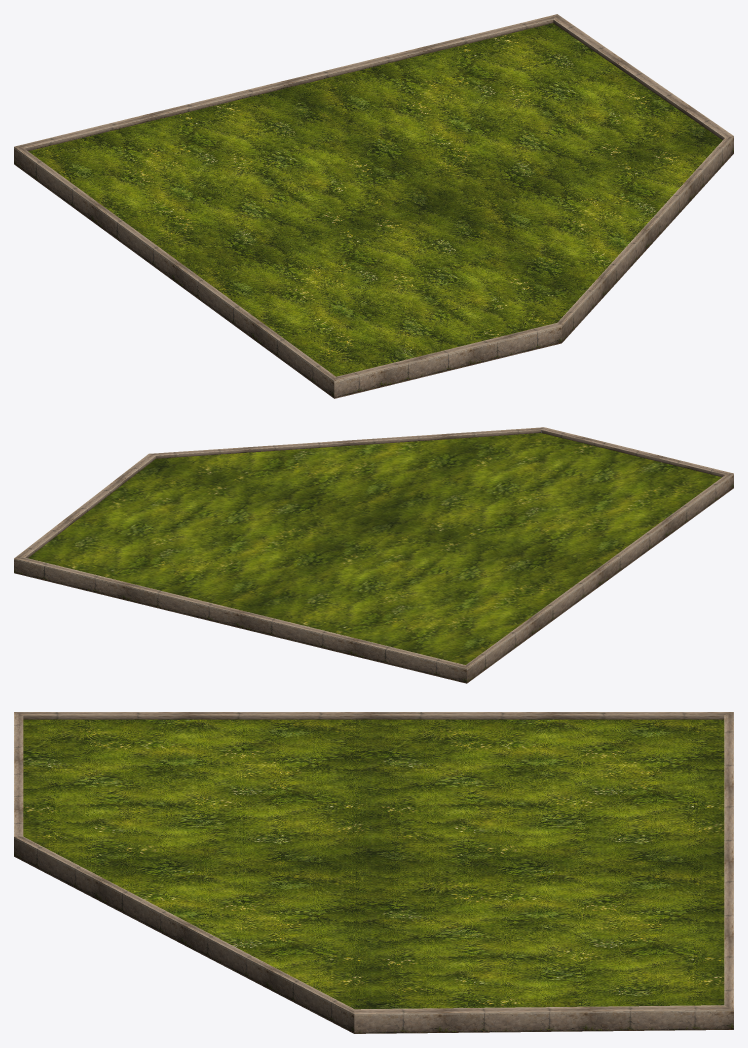
File: JardinA.fbx
3 renders of one model, top to bottom at view 1: azimuth 30°, elevation 25°; view 2: azimuth 150°, elevation 25°; view 3: azimuth 270°, elevation 25°, orthographic. The views are drawn at different scales.
Visible parts, largest first — view 1: Jardin_Salida; view 2: Jardin_Salida; view 3: Jardin_Salida.
Part boxes in pixels (x1,y1,x2,y2): Jardin_Salida: [14, 14, 733, 398]; Jardin_Salida: [14, 427, 733, 683]; Jardin_Salida: [14, 712, 733, 1033].
Size of the model in its own units: 0.4556 by 0.014 by 0.4591.
